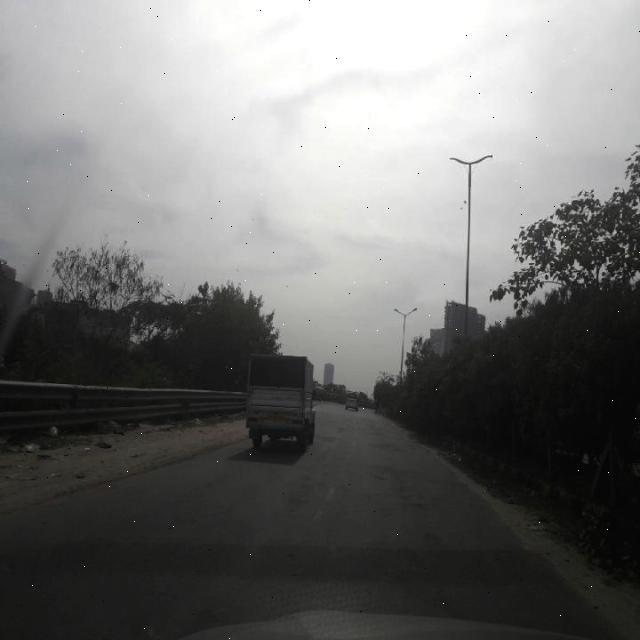D20: (281, 457, 327, 517)
D40: (387, 477, 433, 518)
D44: (295, 473, 344, 539)
